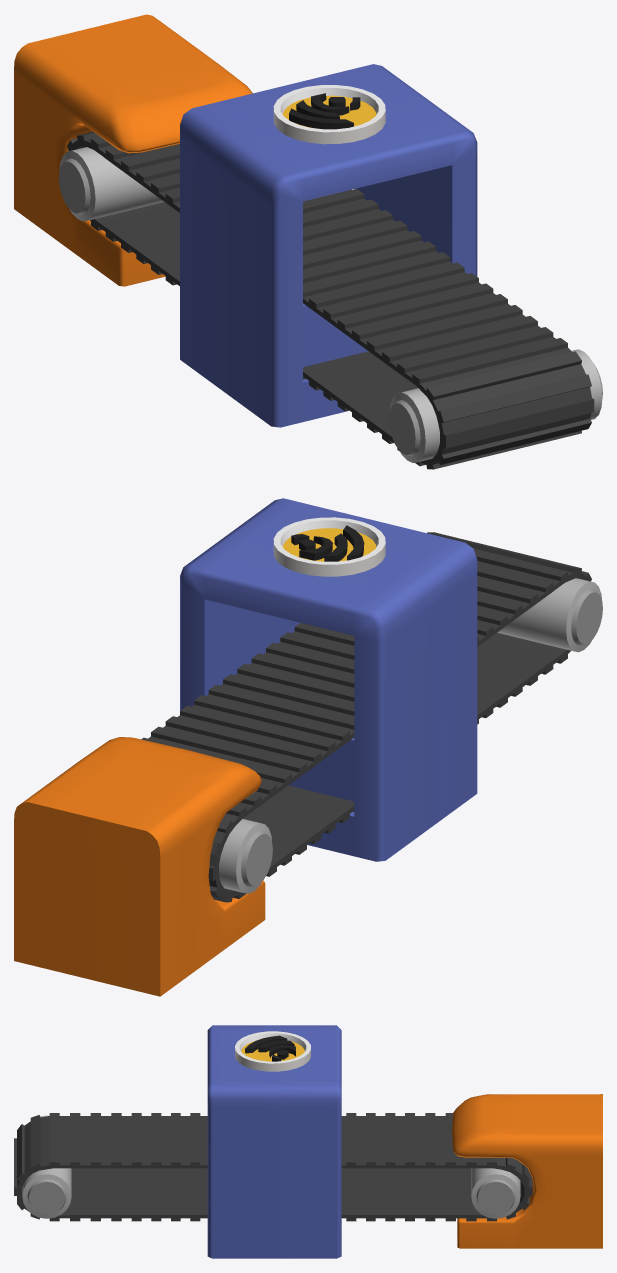
Rendered from maysxquanao_zebra.fbx.
The picture shows the model from 3 angles, top to bottom: view 1: azimuth 30°, elevation 25°; view 2: azimuth 150°, elevation 25°; view 3: azimuth 270°, elevation 25°; orthographic projection. The views are drawn at different scales.
Visible parts, largest first — view 1: than_may3, banh_rang3, duoi_may3, truc_xoay3, pPlane7; view 2: than_may3, duoi_may3, banh_rang3, truc_xoay3, pPlane7; view 3: banh_rang3, than_may3, duoi_may3, truc_xoay3, pPlane7.
Boxes of the visible parts, bbox=[...] form: than_may3: bbox=[180, 64, 477, 427]; banh_rang3: bbox=[67, 131, 594, 469]; duoi_may3: bbox=[14, 14, 252, 286]; truc_xoay3: bbox=[58, 147, 602, 462]; pPlane7: bbox=[273, 85, 385, 144]; than_may3: bbox=[180, 498, 477, 861]; duoi_may3: bbox=[14, 737, 265, 996]; banh_rang3: bbox=[141, 532, 591, 902]; truc_xoay3: bbox=[219, 578, 602, 893]; pPlane7: bbox=[273, 517, 385, 576]; banh_rang3: bbox=[14, 1113, 532, 1221]; than_may3: bbox=[207, 1025, 341, 1258]; duoi_may3: bbox=[452, 1094, 602, 1248]; truc_xoay3: bbox=[22, 1115, 520, 1218]; pPlane7: bbox=[235, 1031, 310, 1071].
Size of the model in its own units: 417 by 504 by 1520.
